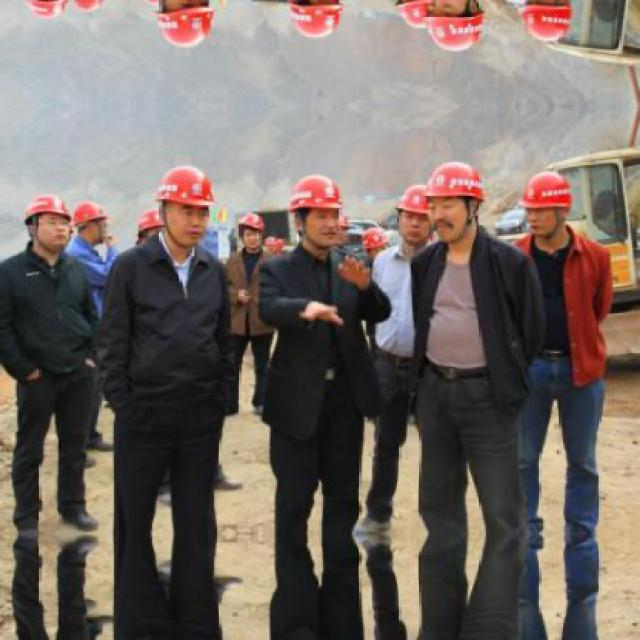helmet: (151, 164, 217, 245), (424, 159, 490, 240), (285, 170, 349, 251), (518, 171, 576, 239), (425, 0, 492, 56), (20, 188, 74, 255), (151, 0, 218, 51), (283, 0, 349, 45), (394, 184, 437, 245), (518, 0, 577, 43), (74, 199, 111, 245), (132, 208, 166, 255), (20, 0, 75, 26), (392, 0, 437, 31), (358, 222, 388, 268), (237, 207, 268, 251), (73, 0, 111, 15)
